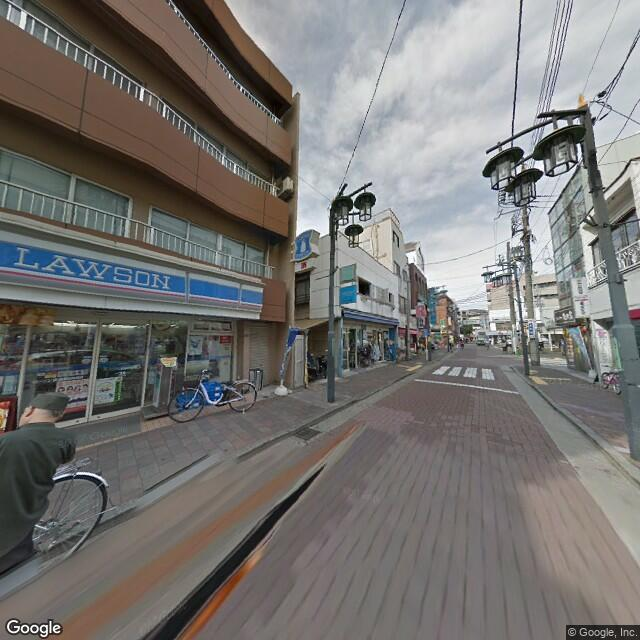lawson: (1, 224, 261, 317), (294, 226, 318, 260)
